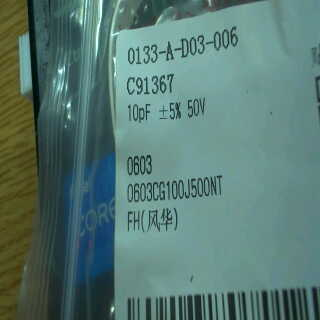10pF: (123, 98, 154, 128)
